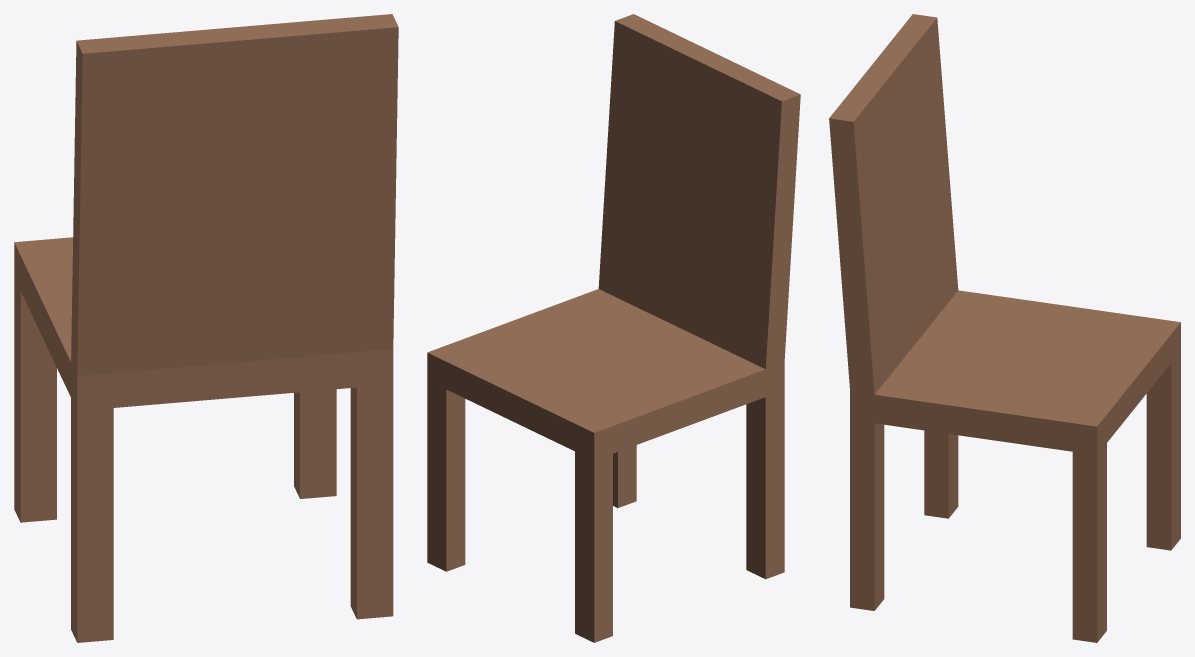
File: Chaise2.fbx
The picture shows the model from 3 angles, left to right: view 1: azimuth 30°, elevation 25°; view 2: azimuth 150°, elevation 25°; view 3: azimuth 270°, elevation 25°; orthographic projection. The views are drawn at different scales.
Visible parts, largest first — view 1: Chaise2; view 2: Chaise2; view 3: Chaise2.
Boxes of the visible parts, left/top/right/bottom form: Chaise2: left=14, top=14, right=398, bottom=642; Chaise2: left=427, top=14, right=800, bottom=642; Chaise2: left=829, top=14, right=1180, bottom=642.
Bounding box in the file's own units: 121 × 192 × 126.
